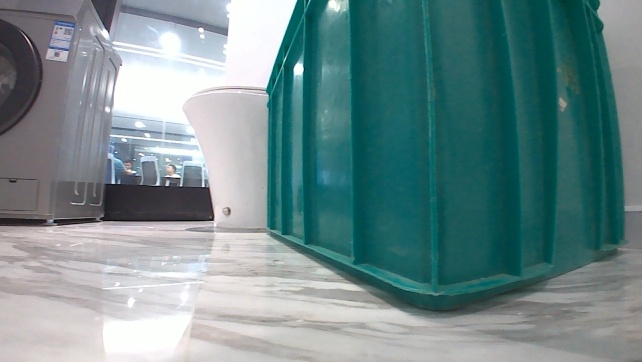toilet: (179, 80, 267, 233)
washing_machine: (0, 0, 125, 229)
